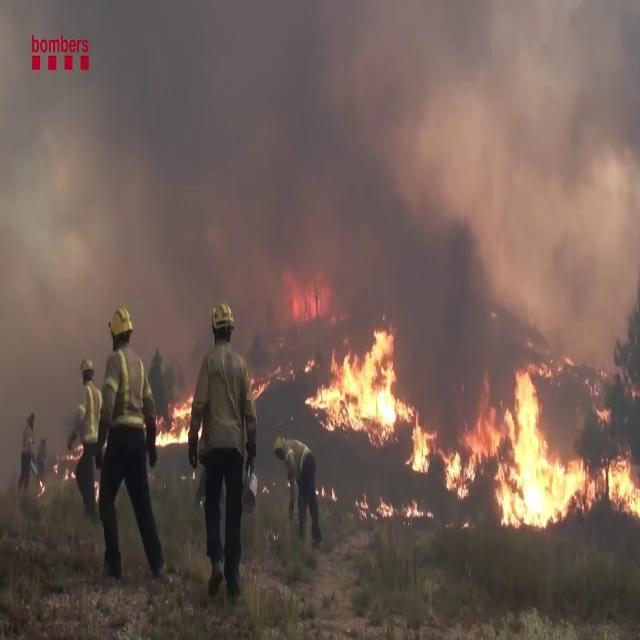Fire: (407, 363, 640, 537), (308, 321, 408, 436), (157, 388, 196, 452)
Smoke: (1, 2, 634, 336)
